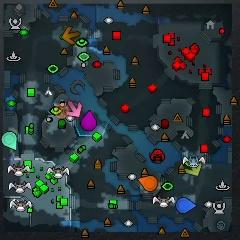p1: (176, 197, 197, 214)
p2: (1, 131, 17, 151)
p3: (81, 111, 97, 131)
p5: (139, 175, 158, 192)
x1: (66, 101, 82, 118)
x2: (185, 163, 202, 177)
x5: (63, 26, 80, 45)
